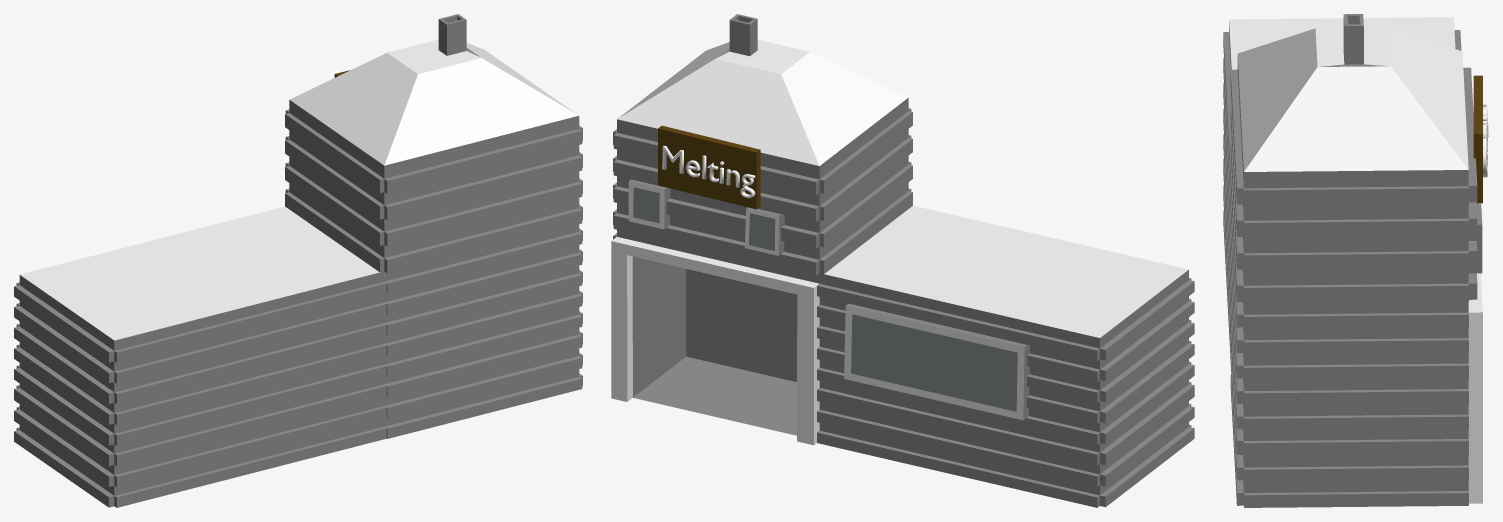
Rendered from Melting.fbx.
3 views of the same model, side by side, from view 1: azimuth 30°, elevation 25°; view 2: azimuth 150°, elevation 25°; view 3: azimuth 270°, elevation 25° (orthographic). The views are drawn at different scales.
Parts seen in each view (by area): view 1: Cube.035; view 2: Cube.035; view 3: Cube.035.
Boxes of the visible parts, box(x1,y1,x2,y2) form: Cube.035: box(14, 14, 582, 507); Cube.035: box(611, 14, 1194, 507); Cube.035: box(1223, 14, 1488, 507).
Bounding box in the file's own units: 611 × 428 × 236.
